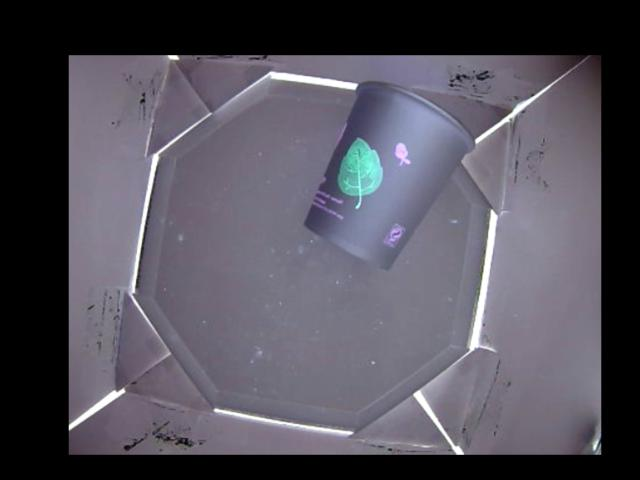Cup: (303, 82, 478, 269)
